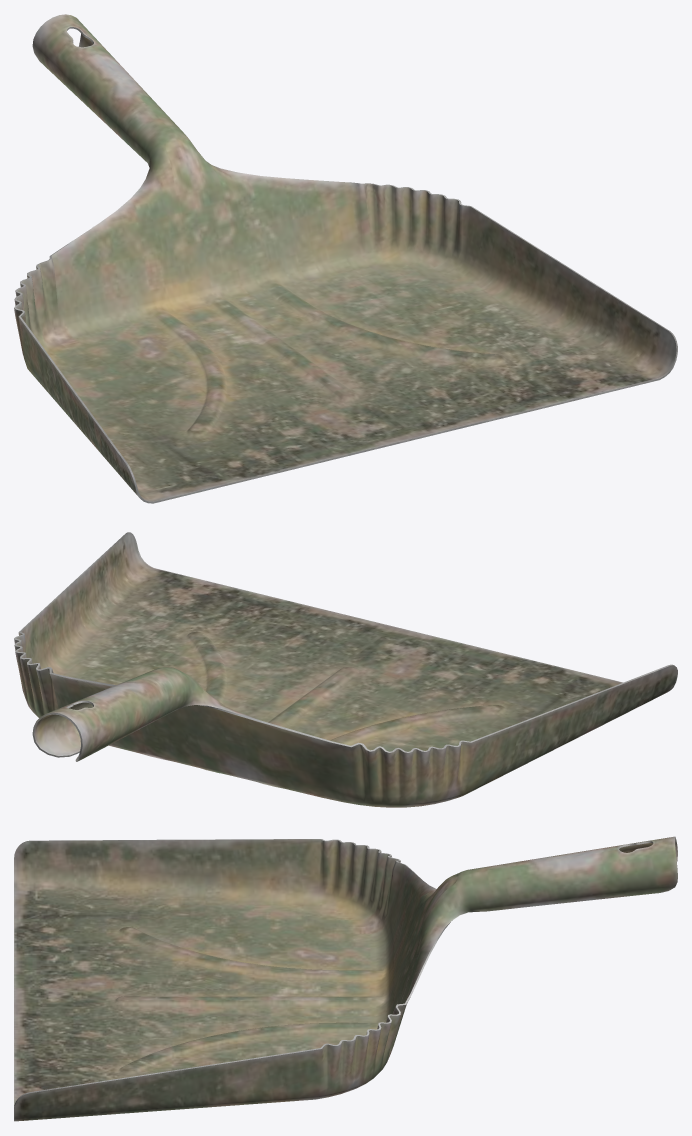
The model's file is dustpan.glb.
3 renders of one model, top to bottom at view 1: azimuth 30°, elevation 25°; view 2: azimuth 150°, elevation 25°; view 3: azimuth 270°, elevation 25°, orthographic. The views are drawn at different scales.
Visible parts, largest first — view 1: dustpan; view 2: dustpan; view 3: dustpan.
Boxes of the visible parts, x1,y1,x2,y2 form: dustpan: [14, 14, 677, 503]; dustpan: [14, 532, 677, 807]; dustpan: [14, 836, 677, 1121].
Bounding box in the file's own units: 0.3321 × 0.1003 × 0.368.
1 material, 1 textured.
